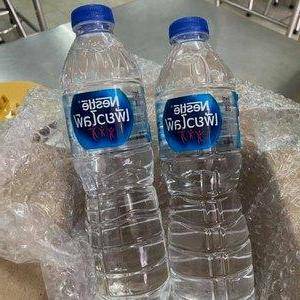bottle: (60, 0, 179, 300), (152, 13, 260, 300)
